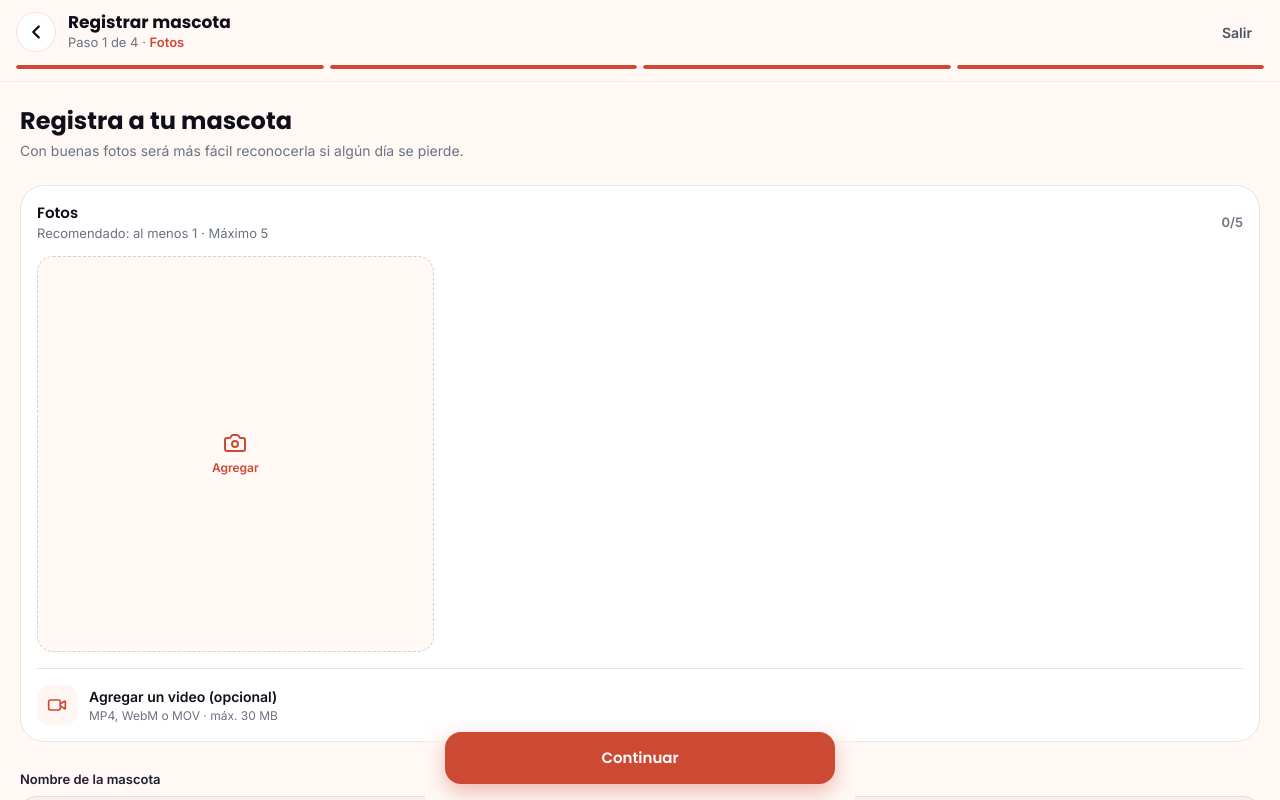
Test case: Sprint 2 — MascotaForm (DoD) › No avanza al paso 2 si falta el nombre
Click the button with test id "btn-siguiente" at (640, 758), box [445, 732, 835, 784]
(page scrolled)
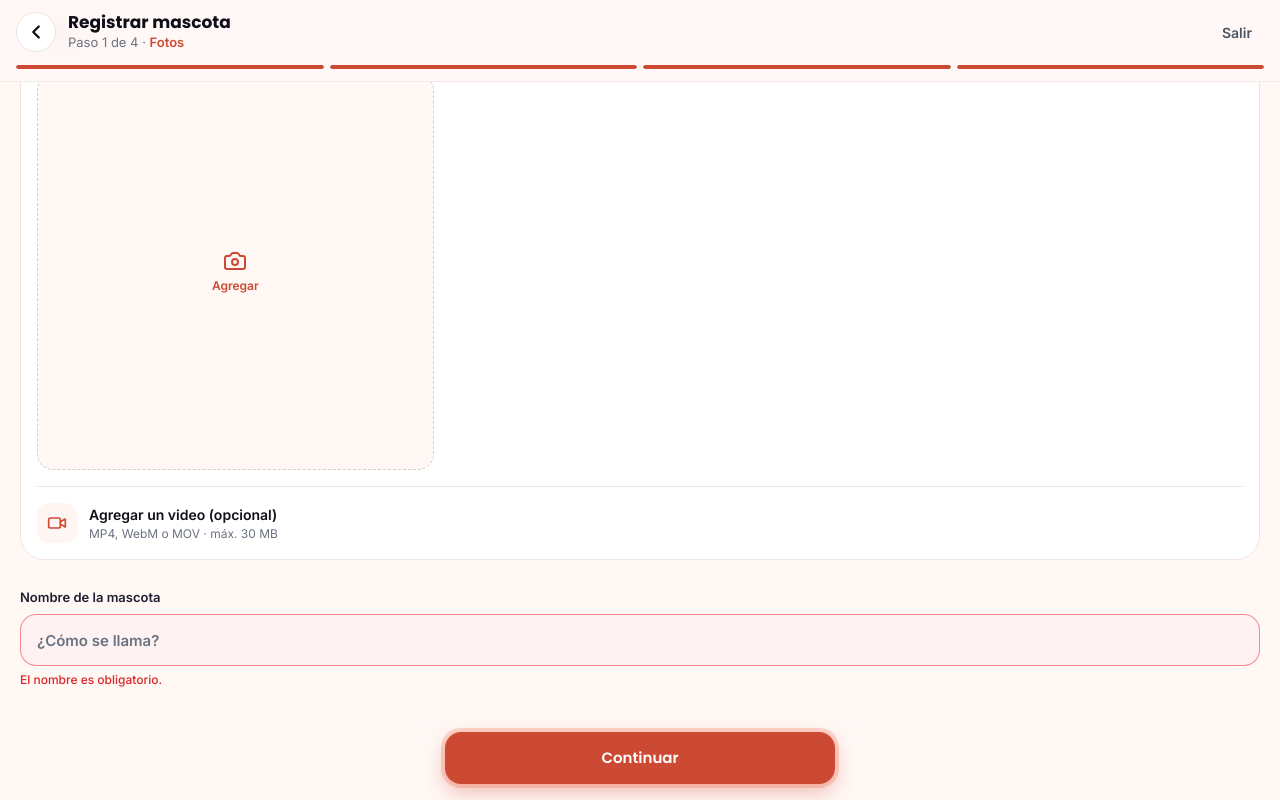
Check: the text "El nombre es obligatorio." is shown, box [20, 672, 162, 687]
